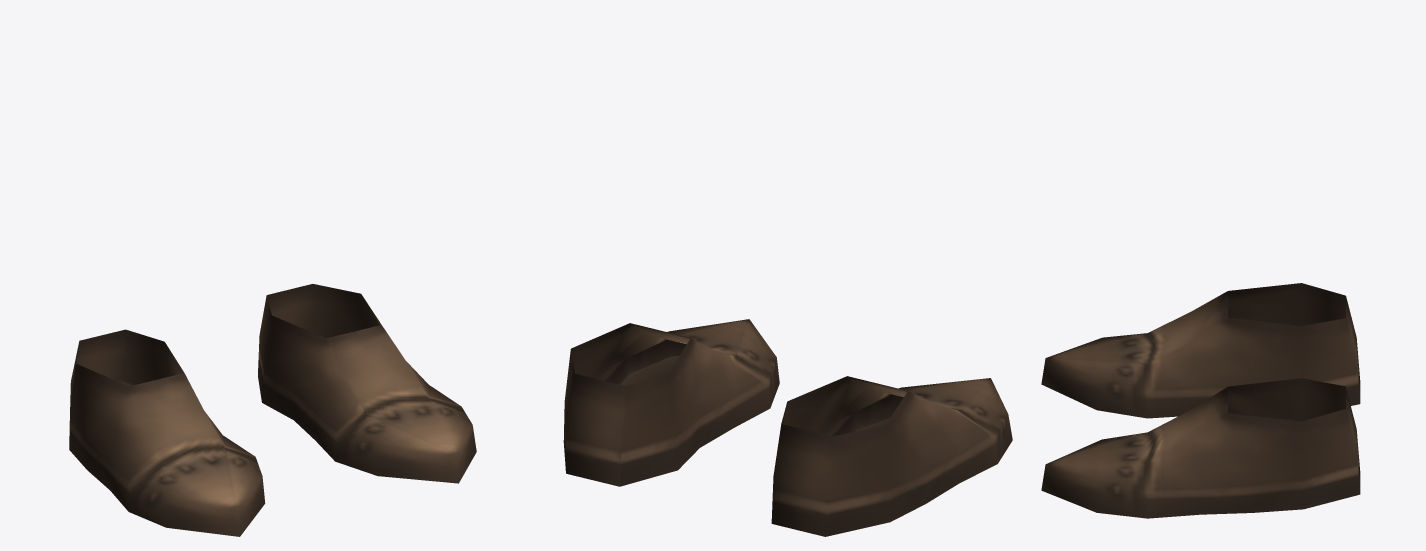
The model's file is hum_forest_01_dc23e080.glb.
3 renders of one model, left to right at view 1: azimuth 30°, elevation 25°; view 2: azimuth 150°, elevation 25°; view 3: azimuth 270°, elevation 25°, orthographic. The views are drawn at different scales.
Size of the model in its own units: 0.7571 by 0.6205 by 0.5885.
Materials: 1 (1 with a texture image).
